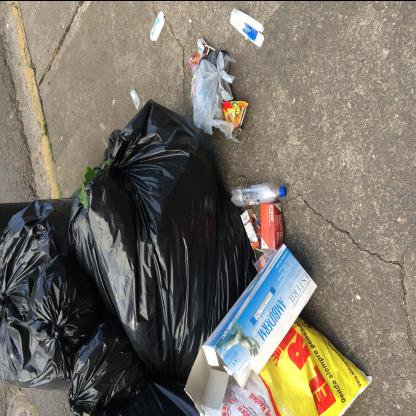karton: (183, 242, 317, 414), (230, 6, 264, 46), (260, 202, 284, 258), (188, 36, 216, 72), (240, 207, 262, 251), (150, 10, 166, 40), (253, 252, 268, 272)
plastik: (68, 98, 251, 372), (1, 197, 103, 386), (193, 315, 374, 415), (69, 321, 145, 414), (190, 48, 236, 134), (230, 181, 288, 206), (221, 100, 249, 138), (130, 88, 141, 109)
